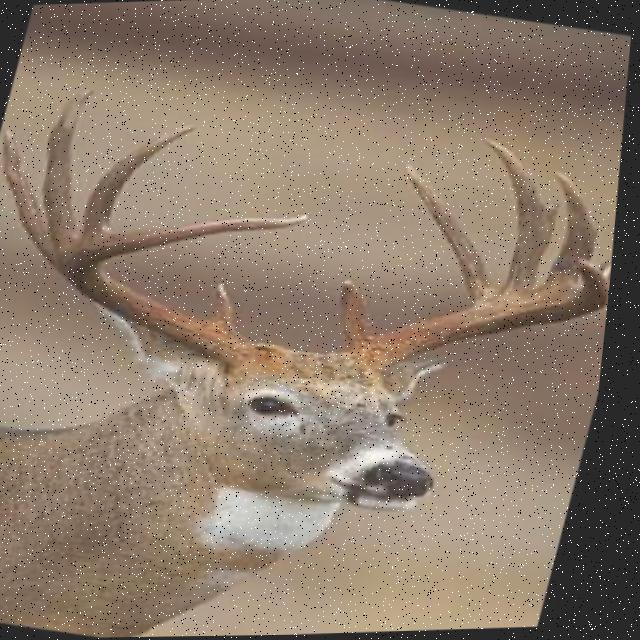E1: (547, 202, 565, 229)
E2: (604, 259, 617, 284)
L-F: (59, 211, 319, 367)
L-G1: (214, 280, 246, 332)
L-G2: (5, 125, 56, 262)
L-G3: (45, 85, 99, 238)
L-G4: (85, 125, 203, 235)
R-F: (356, 258, 615, 388)
R-G1: (344, 275, 388, 349)
R-G2: (406, 160, 507, 309)
R-G3: (485, 136, 556, 296)
